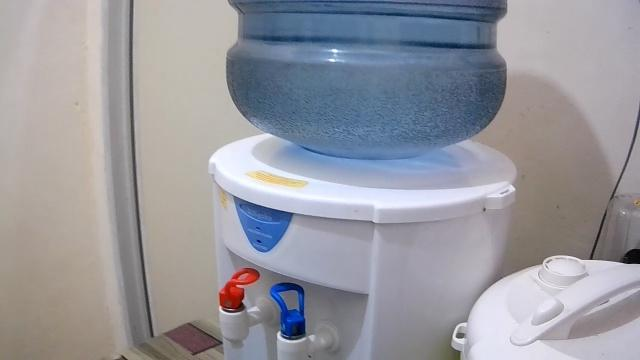Dispenser: (207, 0, 517, 357)
